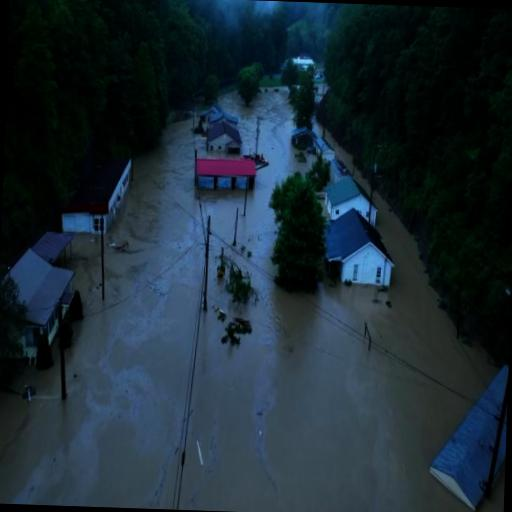flood: (0, 87, 498, 512), (327, 134, 352, 167), (354, 169, 368, 189), (313, 122, 320, 134)
house: (0, 223, 88, 367), (427, 357, 507, 512), (321, 190, 400, 296), (54, 149, 132, 240), (192, 146, 260, 194), (324, 174, 378, 222), (204, 121, 242, 152), (290, 124, 316, 148), (314, 137, 335, 162), (208, 110, 238, 124), (294, 54, 316, 71), (199, 104, 219, 116)
